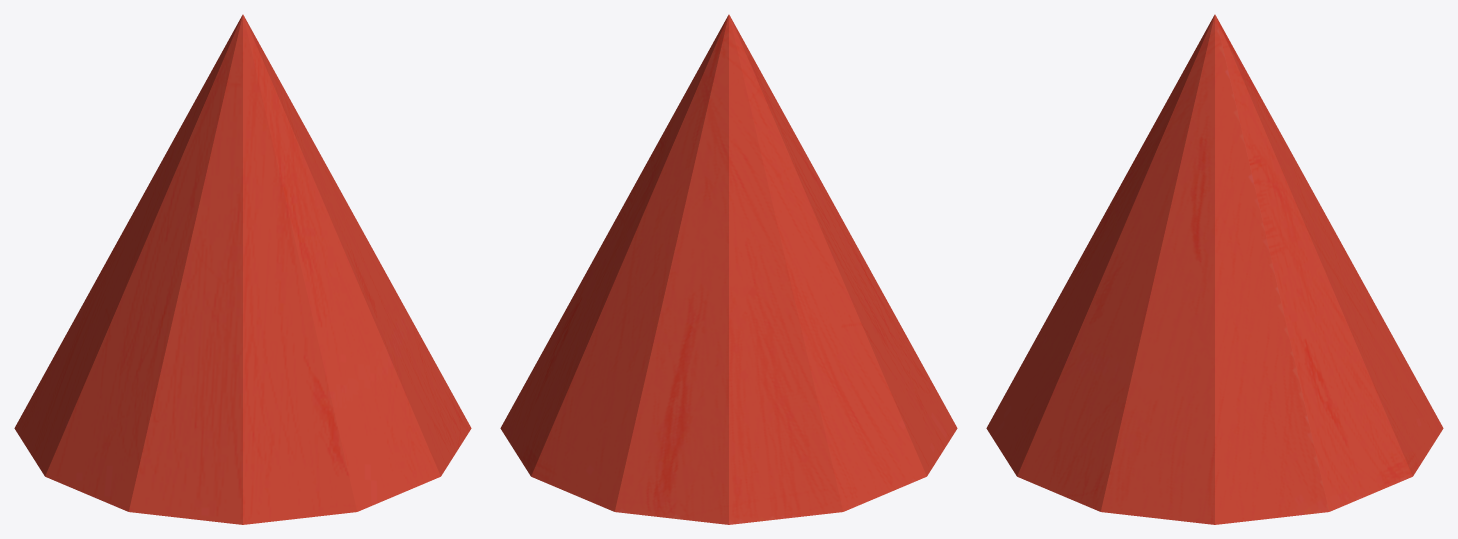
Rendered from ConeBlock_Red.fbx.
3 views of the same model, side by side, from view 1: azimuth 30°, elevation 25°; view 2: azimuth 150°, elevation 25°; view 3: azimuth 270°, elevation 25° (orthographic).
Visible parts, largest first — view 1: Cone.003; view 2: Cone.003; view 3: Cone.003.
Boxes of the visible parts, left/top/right/bottom form: Cone.003: left=14, top=14, right=471, bottom=524; Cone.003: left=500, top=14, right=957, bottom=524; Cone.003: left=986, top=14, right=1443, bottom=524.
Size of the model in its own units: 100 by 100 by 100.
